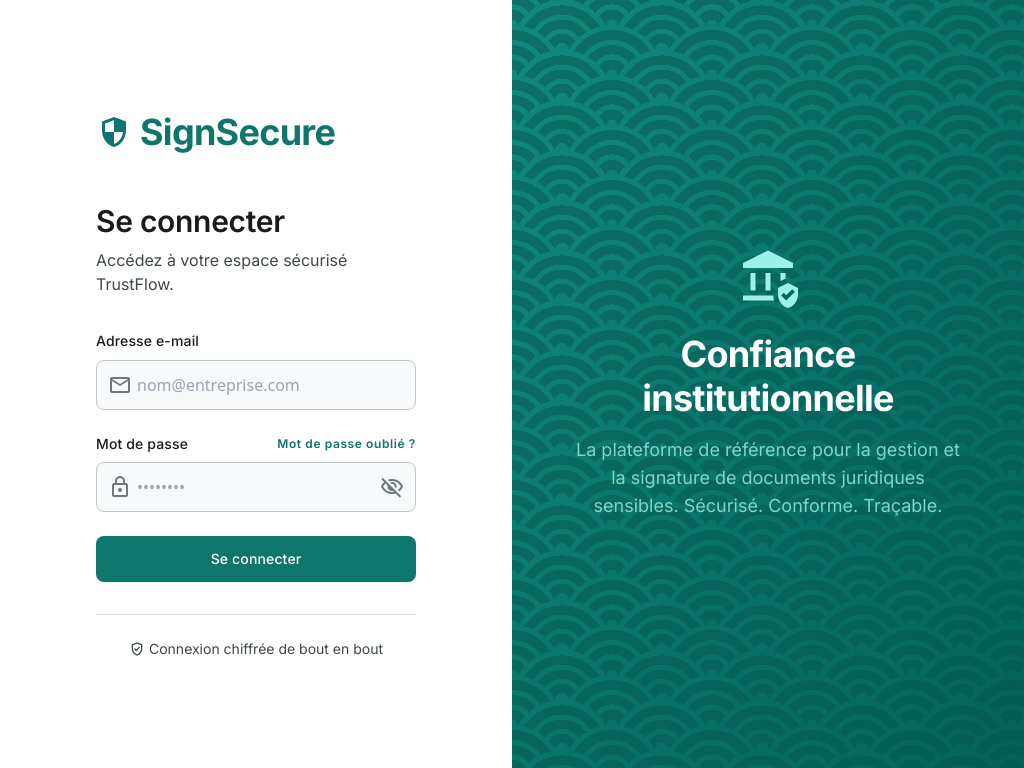
Login › rejects a malformed email address before contacting the API
The image size is (1024, 768).
Type "pas-un-email" into the field labelled "Adresse e-mail". click: {"x": 256, "y": 384}
box: 96,360 -> 416,410
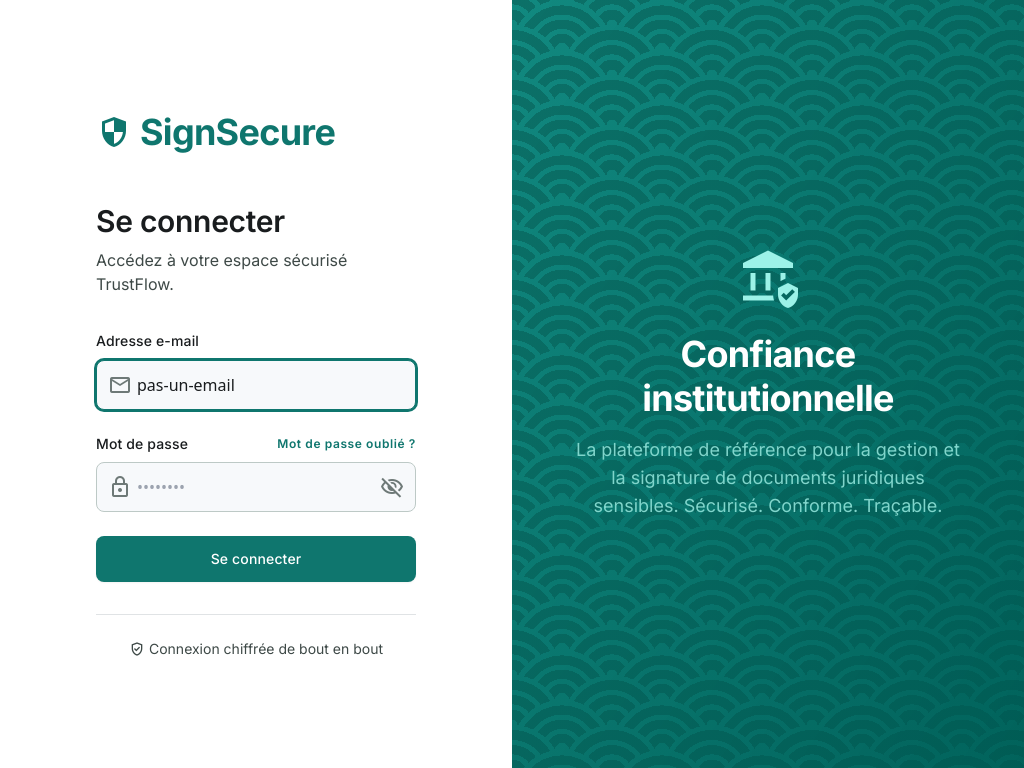
Type "secret123" into the password field labelled "Mot de passe". click: {"x": 256, "y": 486}
box: 96,462 -> 416,512
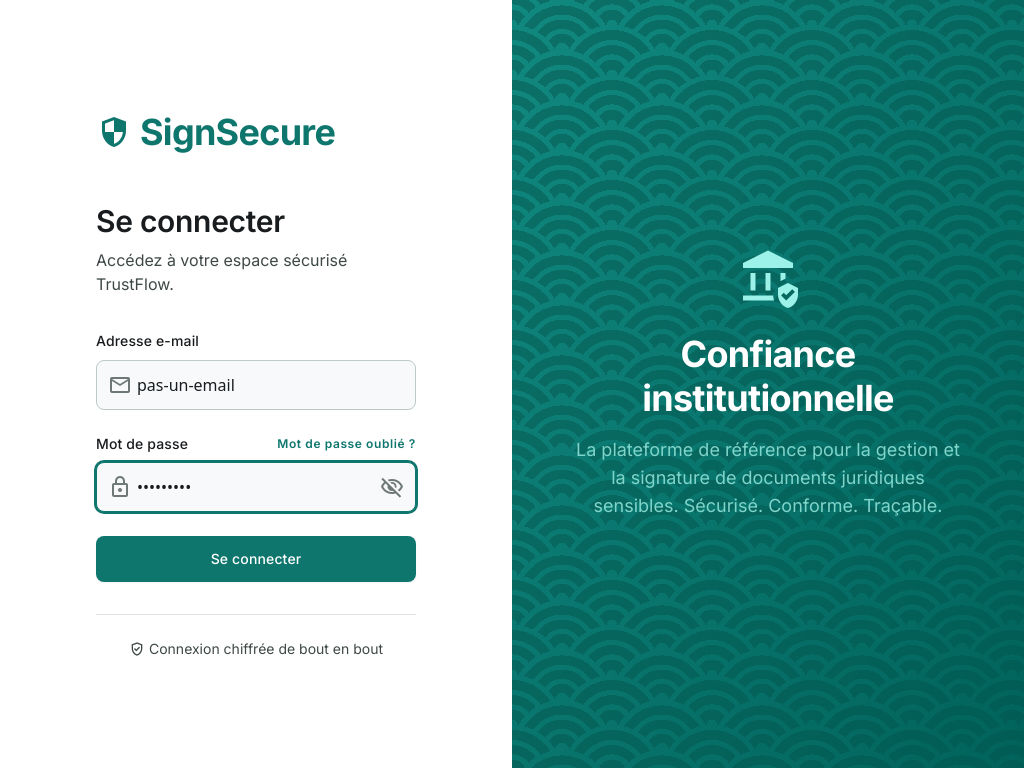
Click the button "Se connecter". click: {"x": 256, "y": 558}
box: 96,536 -> 416,582
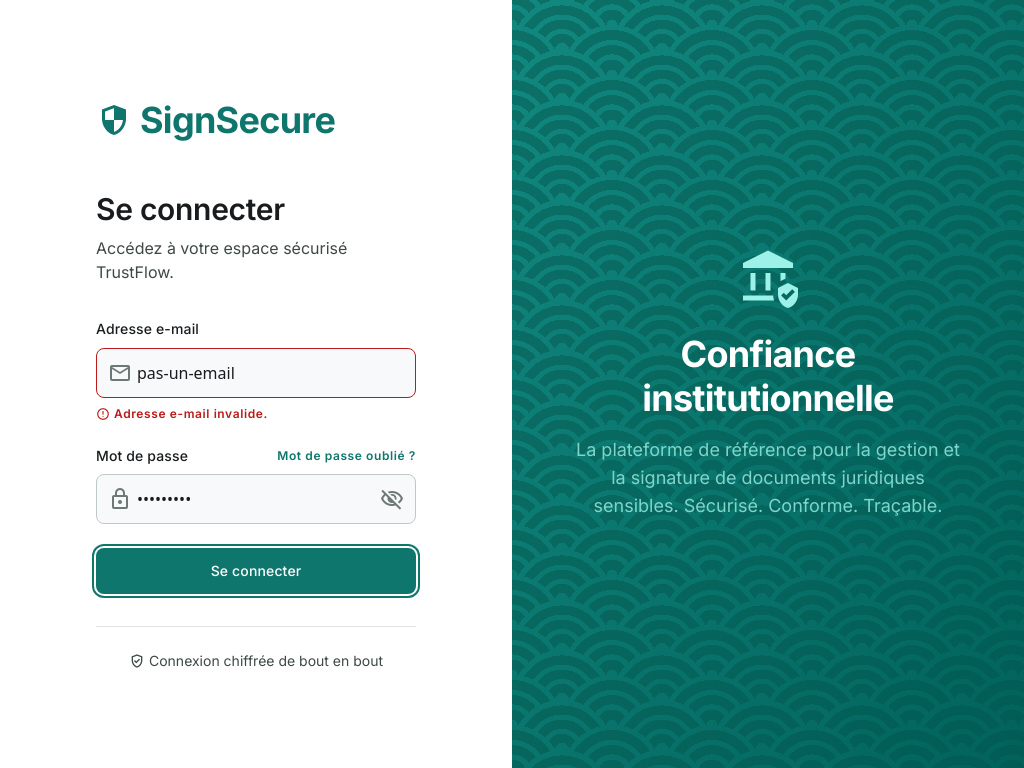
expect the text "Adresse e-mail invalide." is shown: met, box 96,406 -> 268,422
